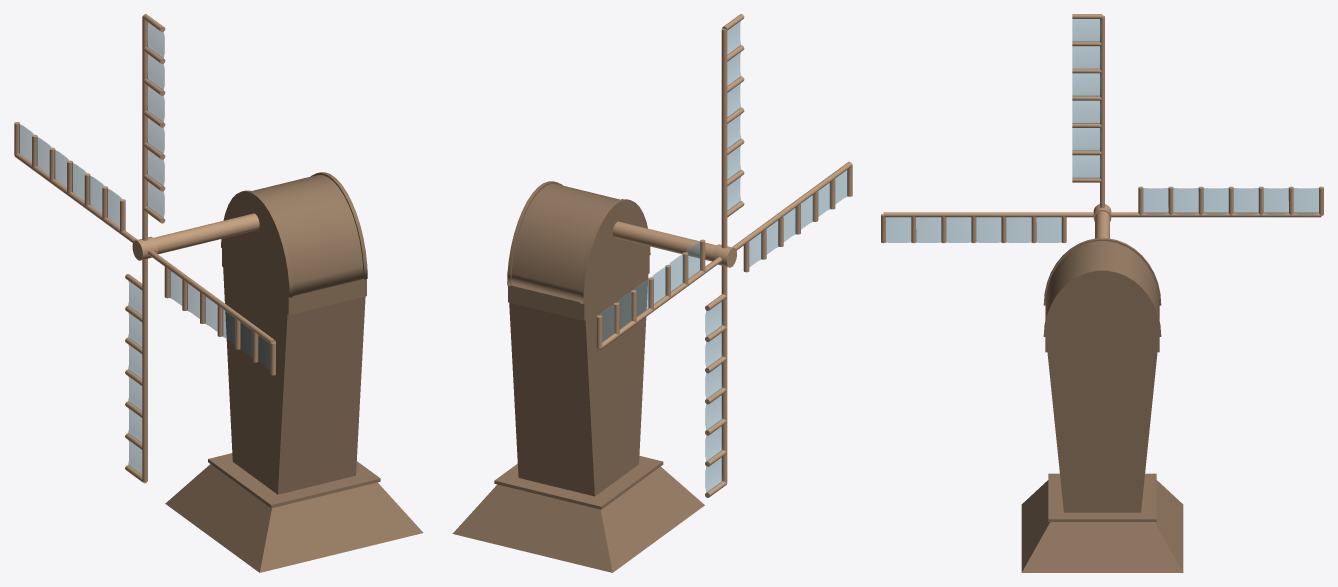
The model's file is Windmills.glb.
3 renders of one model, left to right at view 1: azimuth 30°, elevation 25°; view 2: azimuth 150°, elevation 25°; view 3: azimuth 270°, elevation 25°, orthographic. The views are drawn at different scales.
Parts seen in each view (by area): view 1: Root; view 2: Root; view 3: Root.
Part boxes in pixels (<box>): Root: <box>14,14,423,572</box>; Root: <box>452,14,852,572</box>; Root: <box>881,14,1323,572</box>.
Size of the model in its own units: 7.83 by 16.96 by 14.72.
